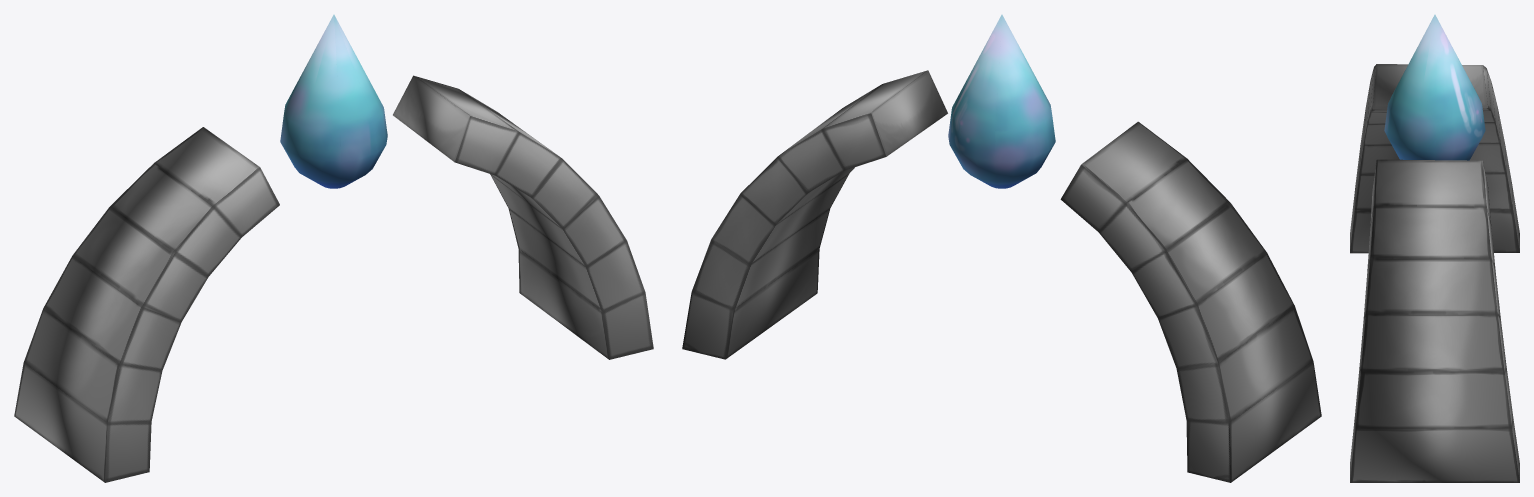
File: pesut altar.fbx
3 views of the same model, side by side, from view 1: azimuth 30°, elevation 25°; view 2: azimuth 150°, elevation 25°; view 3: azimuth 270°, elevation 25° (orthographic). The views are drawn at different scales.
Parts seen in each view (by area): view 1: Cylinder; view 2: Cylinder; view 3: Cylinder.
Part boxes in pixels (left/top/right/bottom): Cylinder: left=14, top=14, right=653, bottom=482; Cylinder: left=682, top=14, right=1321, bottom=482; Cylinder: left=1350, top=14, right=1519, bottom=482.
Bounding box in the file's own units: 1249 × 802 × 359.
1 material, 1 textured.
